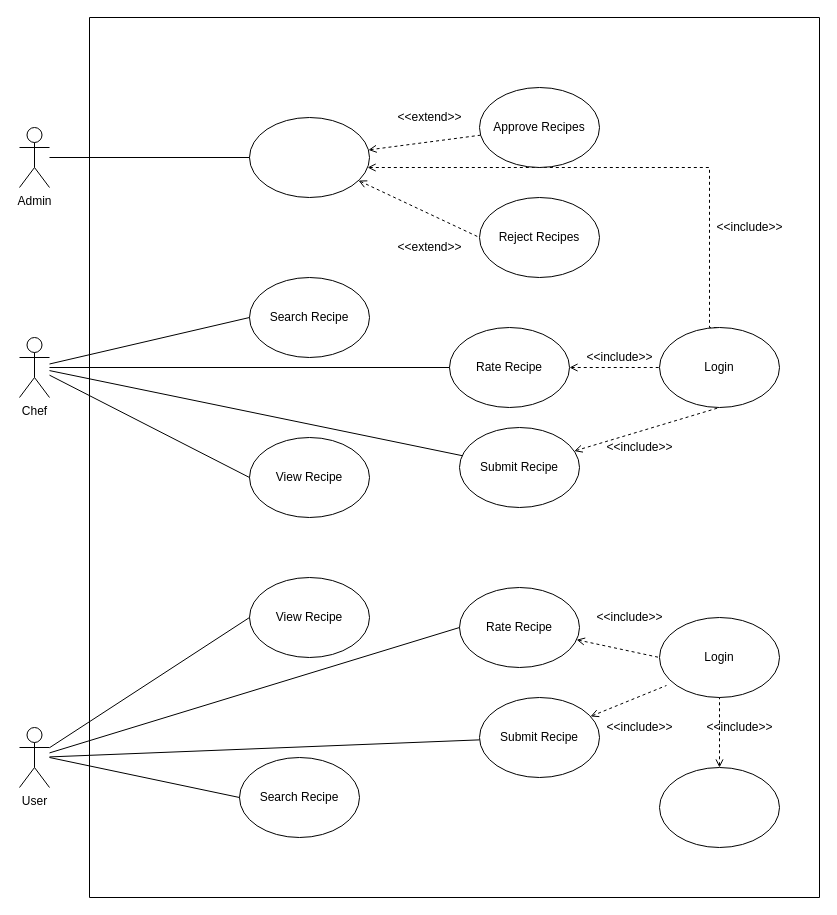
Some shapes in this 837 by 915 pixel diagram are drawn without their labels. Here are the shapes that lost their labels. From the top down, the centre of each, then its label:
At [309,157]: "Manage Pending Recipes".
At [719,807]: "Register".
